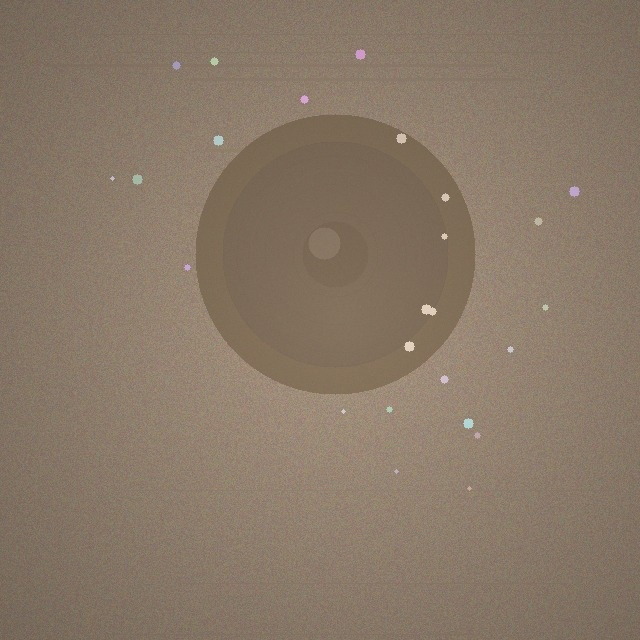overburn: (195, 114, 475, 394)
